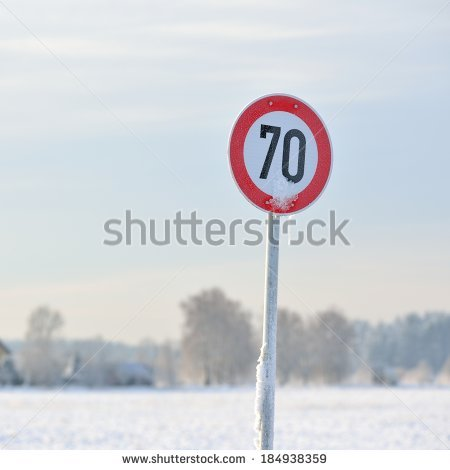Speed_limit_70km: (228, 91, 333, 215)
